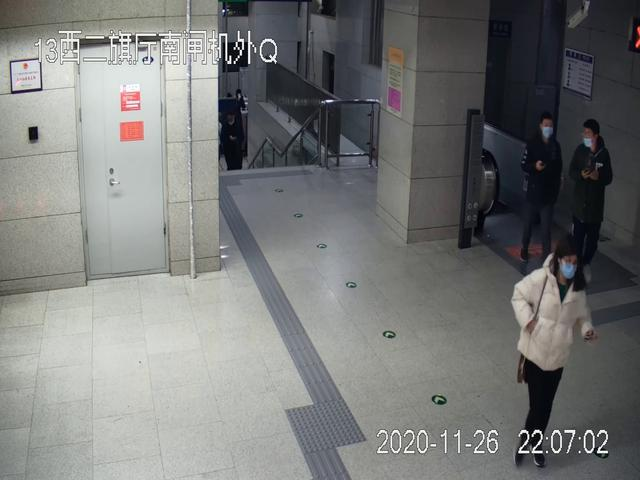person: (511, 238, 595, 467), (570, 121, 613, 278), (521, 115, 561, 269)
